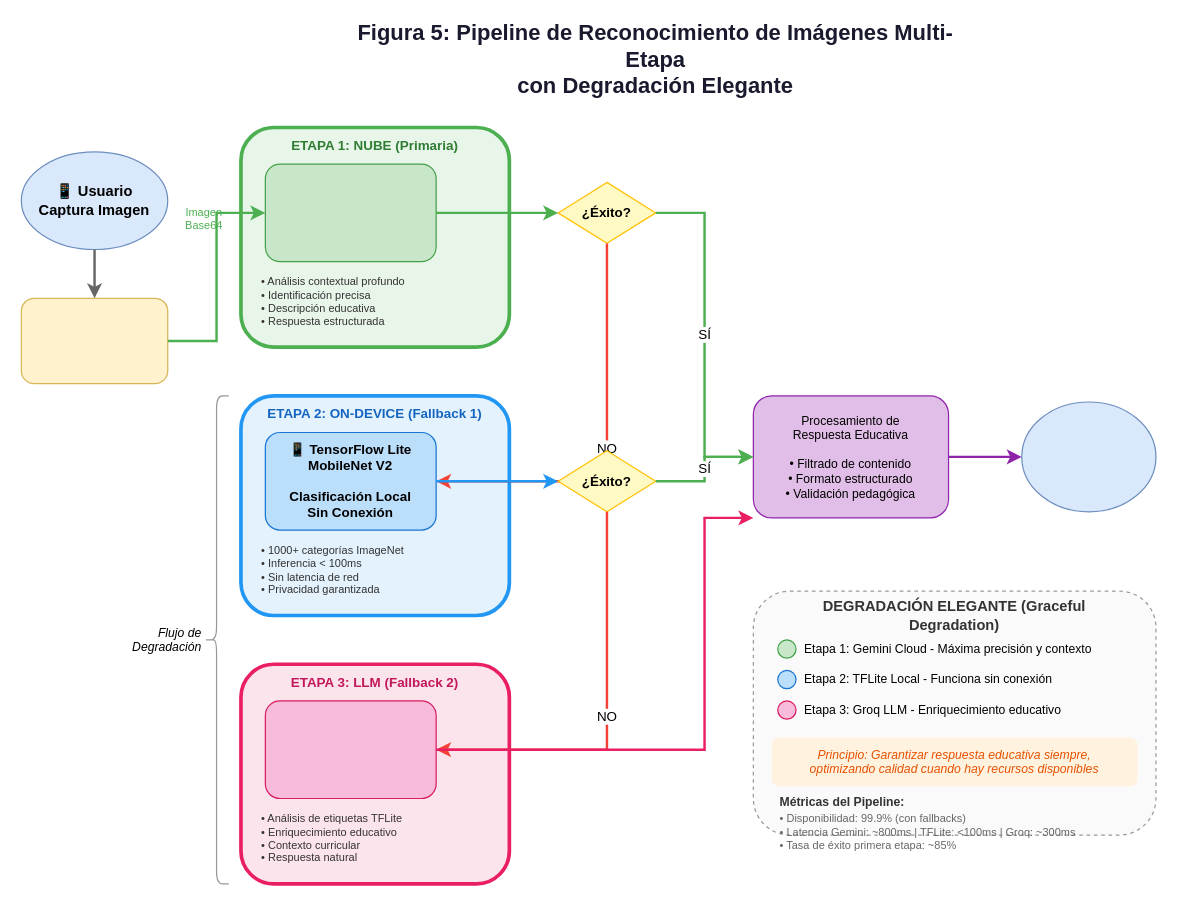
This 1177x906 diagram has some shape labels left out. The shapes that lost their labels are listed below. From the top down, each one's box as (x1, y1, x2, y2) in pixels, then its label:
(264, 163, 436, 262): 🌐 Google Gemini 1.5 Flash Modelo Multimodal Vision API
(20, 297, 168, 384): Preprocesamiento • Conversión Base64 • Validación formato • Compresión
(1021, 401, 1156, 512): 📱 Respuesta al Estudiante Información Educativa
(264, 700, 436, 798): 🤖 Groq LLaMA 3.3 70B Descripción Basada en Texto
